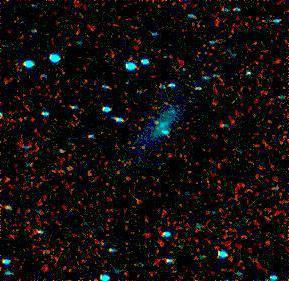star: (140, 105, 170, 135)
